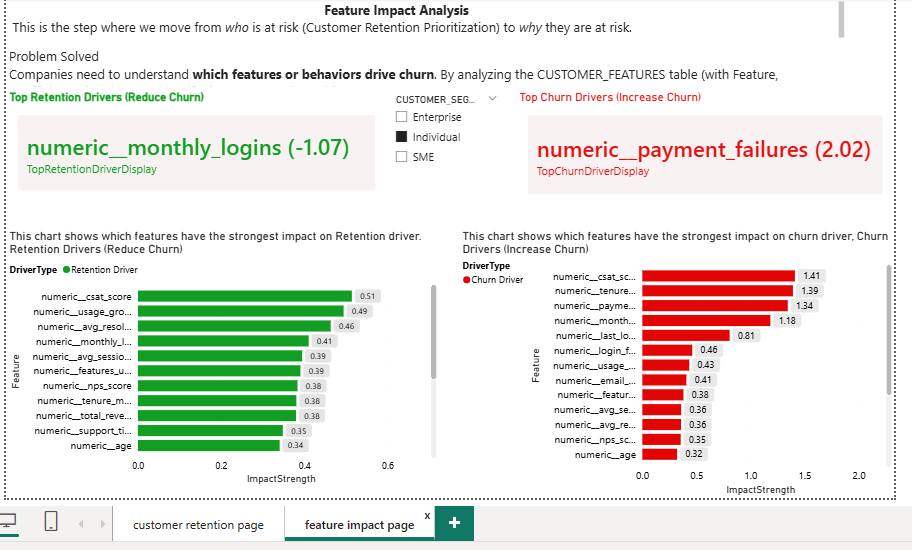

This screenshot's page, from the dashboard's own definition file:
{"tool":"powerbi","page":{"name":"Page 3","canvas":[1280,720],"ordinal":2},"visuals":[{"type":"textbox","box":[0,0,1212.5,132.5],"z":0},{"type":"clusteredBarChart","title":"This chart shows which features have the strongest impact on Retention driver. Retention Drivers (Reduce Churn)","fields":{"Category":["CUSTOMER_CHURN_SUMMARY.Feature"],"Y":["CUSTOMER_CHURN_SUMMARY.ImpactStrength"],"Series":["CUSTOMER_CHURN_SUMMARY.DriverType"]},"box":[0,332.6,625,373],"z":1000},{"type":"clusteredBarChart","title":"This chart shows which features have the strongest impact on churn  driver, Churn Drivers (Increase Churn)","fields":{"Category":["CUSTOMER_CHURN_SUMMARY.Feature"],"Y":["CUSTOMER_CHURN_SUMMARY.ImpactStrength"],"Series":["CUSTOMER_CHURN_SUMMARY.DriverType"]},"box":[651.8,332.6,628.2,388],"z":3000},{"type":"slicer","fields":{"Values":["CUSTOMER_FEATURES.CUSTOMER_SEGMENT"]},"box":[549.3,132.7,171.3,168],"z":3001},{"type":"cardVisual","title":"Top Retention Drivers (Reduce Churn)","fields":{"Data":["CUSTOMER_CHURN_SUMMARY.TopRetentionDriver"]},"box":[0,132.7,549.3,161.3],"z":3002},{"type":"cardVisual","title":"Top Churn Drivers (Increase Churn)","fields":{"Data":["CUSTOMER_CHURN_SUMMARY.TopChurnDriverFeature"]},"box":[734.1,132.7,545.9,168],"z":3005}]}

Visuals, with their boxes on the page's 1280x720 design canvas (x1, y1, x2, y2). These are canvas units, not pixel positions in the 912x550 screenshot, which may show the page scaled, cropped or inside an application window:
textbox: bbox=[0, 0, 1212, 132]
"This chart shows which features have the strongest impact on Retention driver. Retention Drivers (Reduce Churn)" clusteredBarChart: bbox=[0, 333, 625, 706]
"This chart shows which features have the strongest impact on churn  driver, Churn Drivers (Increase Churn)" clusteredBarChart: bbox=[652, 333, 1280, 721]
slicer - CUSTOMER_FEATURES.CUSTOMER_SEGMENT: bbox=[549, 133, 721, 301]
"Top Retention Drivers (Reduce Churn)" cardVisual: bbox=[0, 133, 549, 294]
"Top Churn Drivers (Increase Churn)" cardVisual: bbox=[734, 133, 1280, 301]
